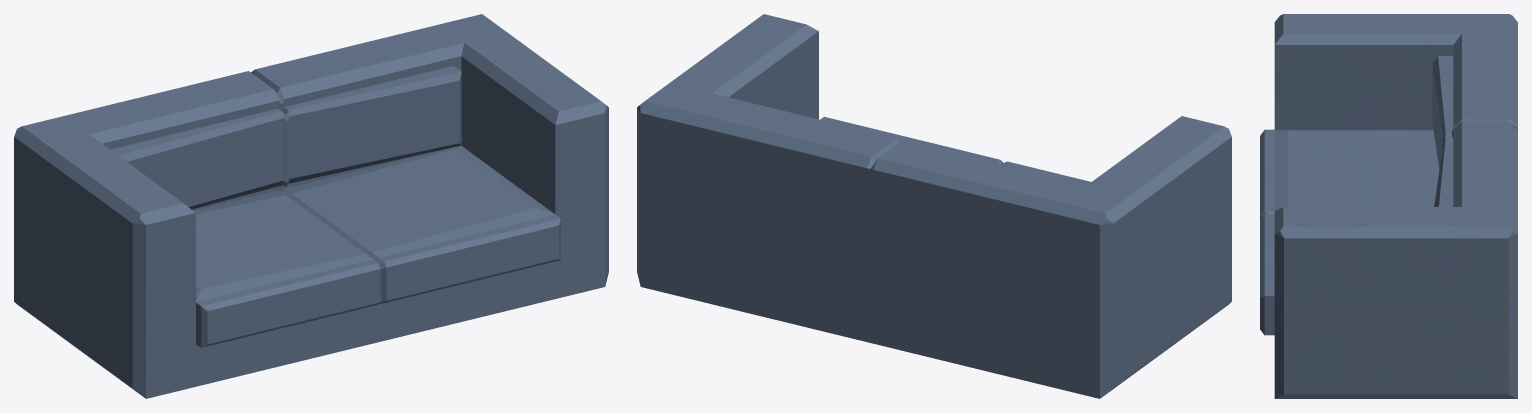
Rendered from Sofa_01_03.fbx.
The picture shows the model from 3 angles, left to right: view 1: azimuth 30°, elevation 25°; view 2: azimuth 150°, elevation 25°; view 3: azimuth 270°, elevation 25°; orthographic projection. The views are drawn at different scales.
Visible parts, largest first — view 1: Sofa_01_03; view 2: Sofa_01_03; view 3: Sofa_01_03.
Part boxes in pixels (x1,y1,x2,y2): Sofa_01_03: (14,14,608,398); Sofa_01_03: (637,14,1231,398); Sofa_01_03: (1260,14,1517,398).
Size of the model in its own units: 2.5 by 0.913 by 1.24.
